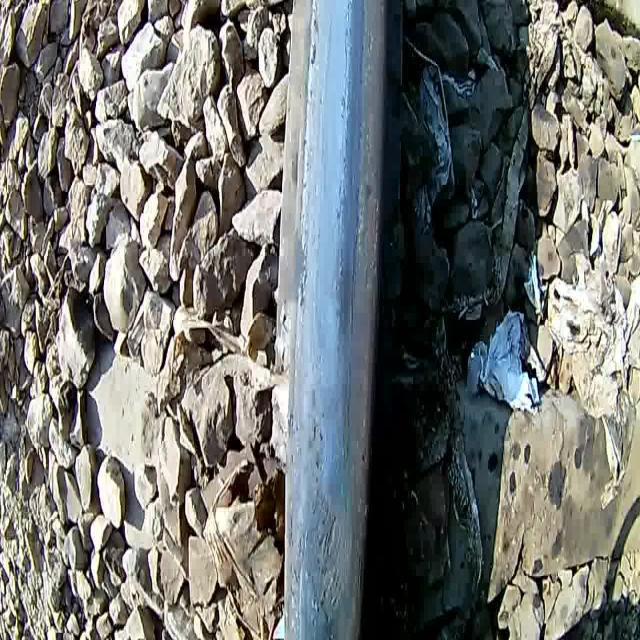Squats: (272, 474, 377, 640)
